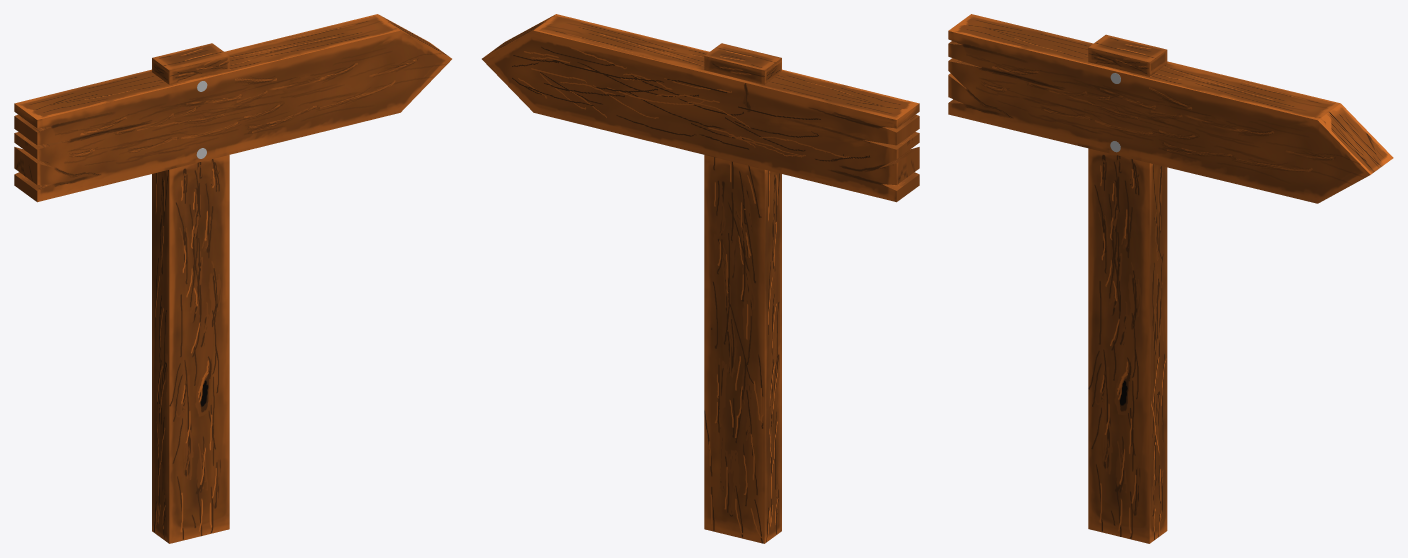
Rendered from SM_WoondenPoster_01.fbx.
3 renders of one model, left to right at view 1: azimuth 30°, elevation 25°; view 2: azimuth 150°, elevation 25°; view 3: azimuth 330°, elevation 25°, orthographic.
Visible parts, largest first — view 1: Cartel, Palo; view 2: Cartel, Palo; view 3: Cartel, Palo.
Part boxes in pixels (x1,y1,x2,y2): Cartel: (14, 14, 451, 202); Palo: (152, 43, 229, 543); Cartel: (482, 14, 919, 202); Palo: (704, 43, 781, 543); Cartel: (948, 14, 1393, 203); Palo: (1088, 34, 1167, 543).
Bounding box in the file's own units: 1.38 × 1.5 × 0.1313.
